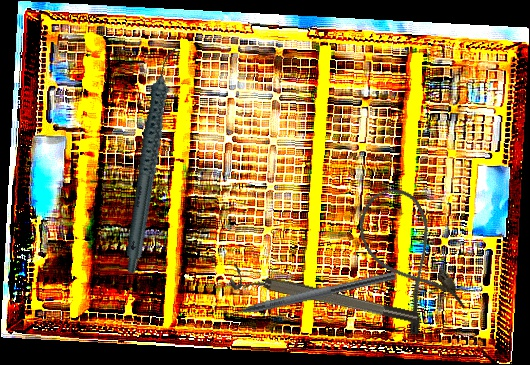Cannula: (347, 179, 469, 338)
Chopper: (210, 258, 398, 325)
Fixation Ring: (228, 262, 420, 335)
Handpiece: (79, 42, 224, 276)
